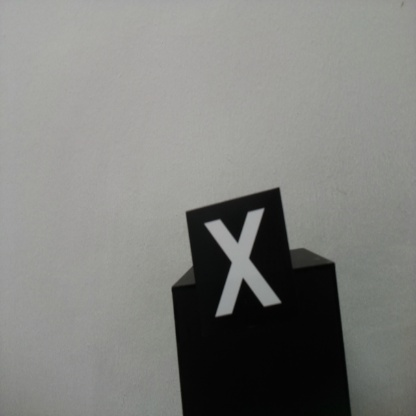id_13: (184, 208, 297, 328)
